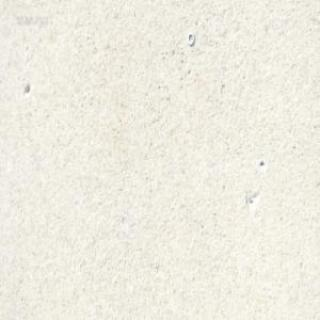Washertrack_idkeyframe: (187, 30, 194, 46)
